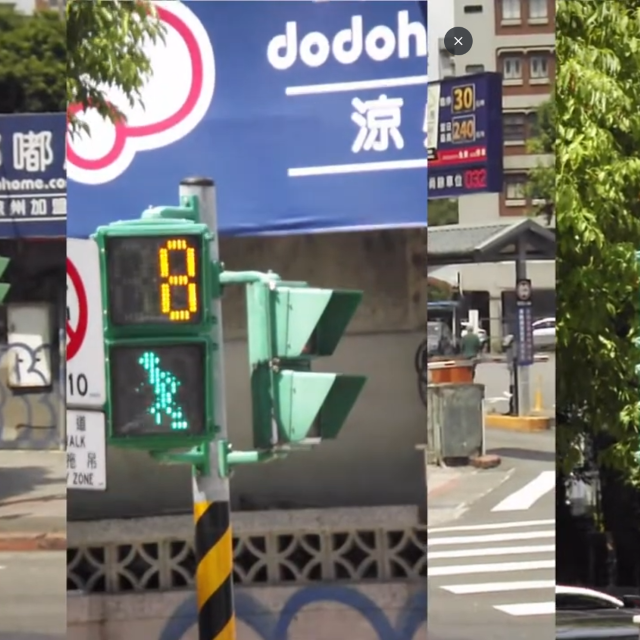green_light: (100, 231, 215, 439)
